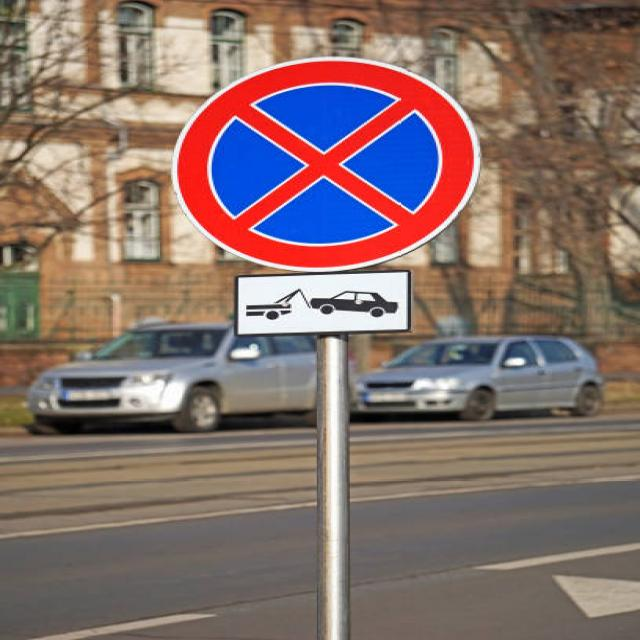no_parking: (155, 54, 503, 279)
